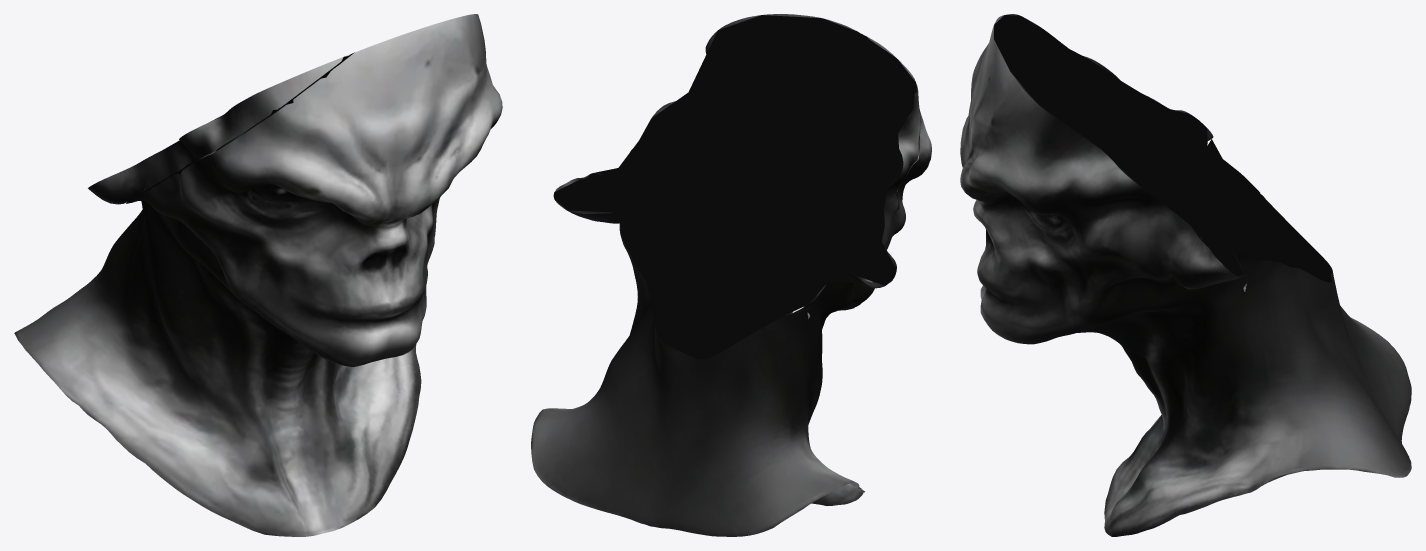
Rendered from alien2forward-compressed.glb.
3 renders of one model, left to right at view 1: azimuth 30°, elevation 25°; view 2: azimuth 150°, elevation 25°; view 3: azimuth 270°, elevation 25°, orthographic. The views are drawn at different scales.
Visible parts, largest first — view 1: Alien_Overlord_0927095325.001_Material.005_0_cell.001; view 2: Alien_Overlord_0927095325.001_Material.005_0_cell.001; view 3: Alien_Overlord_0927095325.001_Material.005_0_cell.001.
Part boxes in pixels (x1,y1,x2,y2): Alien_Overlord_0927095325.001_Material.005_0_cell.001: [14, 14, 502, 536]; Alien_Overlord_0927095325.001_Material.005_0_cell.001: [531, 14, 931, 536]; Alien_Overlord_0927095325.001_Material.005_0_cell.001: [960, 14, 1411, 536].
Bounding box in the file's own units: 0.7614 × 0.9904 × 0.8286.
Materials: 1 (1 with a texture image).
